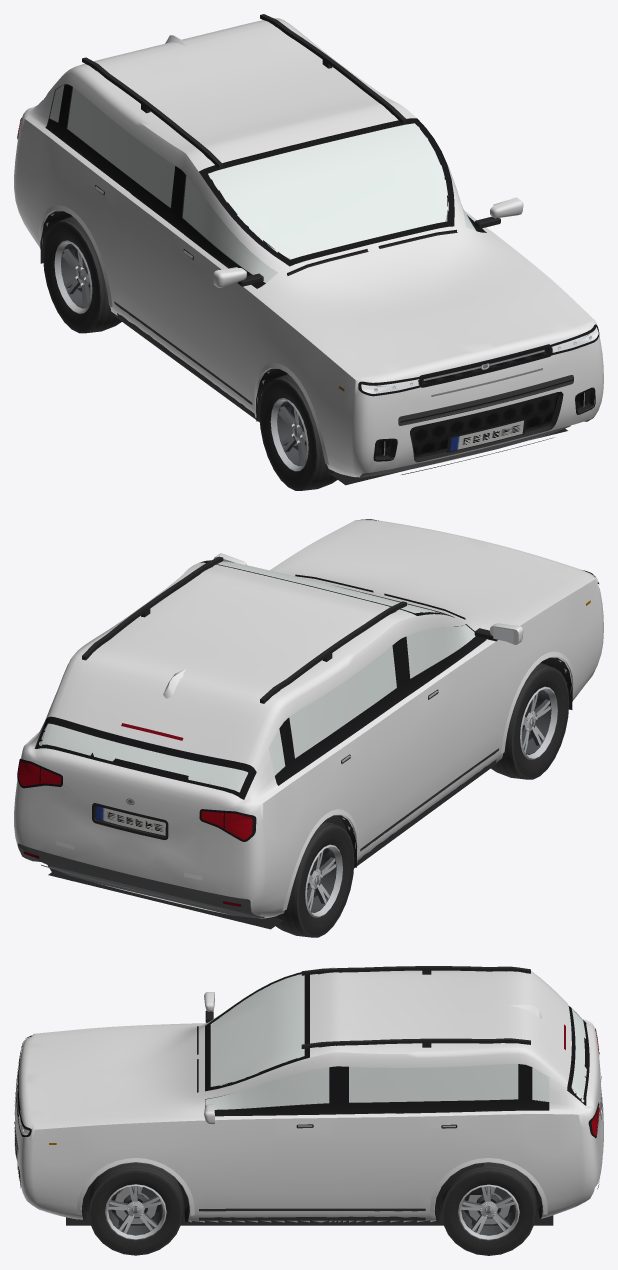
The model's file is TrafficSUVA_complete_unity.fbx.
3 views of the same model, one above another, from view 1: azimuth 30°, elevation 25°; view 2: azimuth 150°, elevation 25°; view 3: azimuth 270°, elevation 25° (orthographic). The views are drawn at different scales.
Visible parts, largest first — view 1: Body_LOD0, Glass_LOD0, Trim_LOD0, Wheel_RR_LOD0, Wheel_FR_LOD0, Lights_LOD0; view 2: Body_LOD0, Trim_LOD0, Glass_LOD0, Wheel_RR_LOD0, Wheel_FR_LOD0, Lights_LOD0; view 3: Body_LOD0, Glass_LOD0, Trim_LOD0, Wheel_FL_LOD0, Wheel_RL_LOD0, Interior_LOD0.
Boxes of the visible parts, left/top/right/bottom form: Body_LOD0: left=14, top=18, right=603, bottom=477; Glass_LOD0: left=50, top=85, right=475, bottom=282; Trim_LOD0: left=17, top=14, right=599, bottom=485; Wheel_RR_LOD0: left=43, top=216, right=121, bottom=333; Wheel_FR_LOD0: left=259, top=374, right=337, bottom=490; Lights_LOD0: left=18, top=120, right=598, bottom=393; Body_LOD0: left=14, top=520, right=603, bottom=918; Trim_LOD0: left=17, top=519, right=598, bottom=929; Glass_LOD0: left=39, top=561, right=475, bottom=792; Wheel_RR_LOD0: left=274, top=822, right=354, bottom=937; Wheel_FR_LOD0: left=491, top=662, right=569, bottom=779; Lights_LOD0: left=18, top=574, right=598, bottom=880; Body_LOD0: left=14, top=967, right=603, bottom=1222; Glass_LOD0: left=205, top=974, right=586, bottom=1109; Trim_LOD0: left=14, top=966, right=602, bottom=1225; Wheel_FL_LOD0: left=87, top=1162, right=184, bottom=1255; Wheel_RL_LOD0: left=440, top=1162, right=537, bottom=1255; Interior_LOD0: left=279, top=1066, right=483, bottom=1194.
Size of what is drawn, in the model's own units: 2.19 by 1.7 by 4.48.
